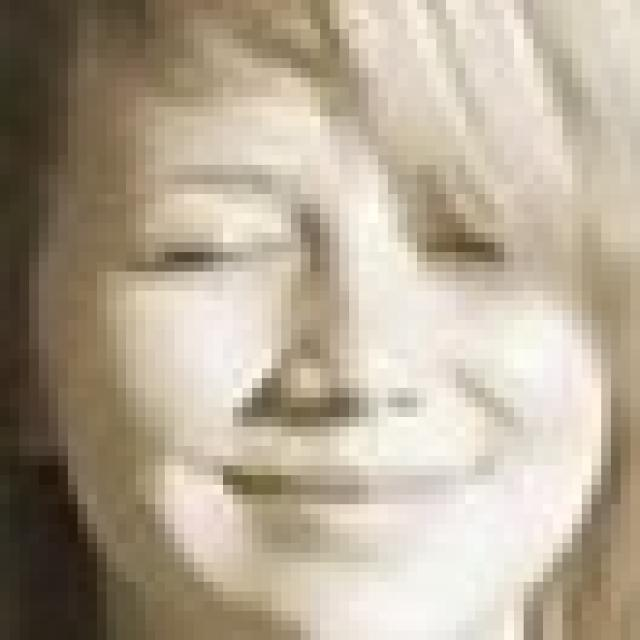Eyeclosed: (141, 229, 289, 275), (419, 222, 496, 269)
